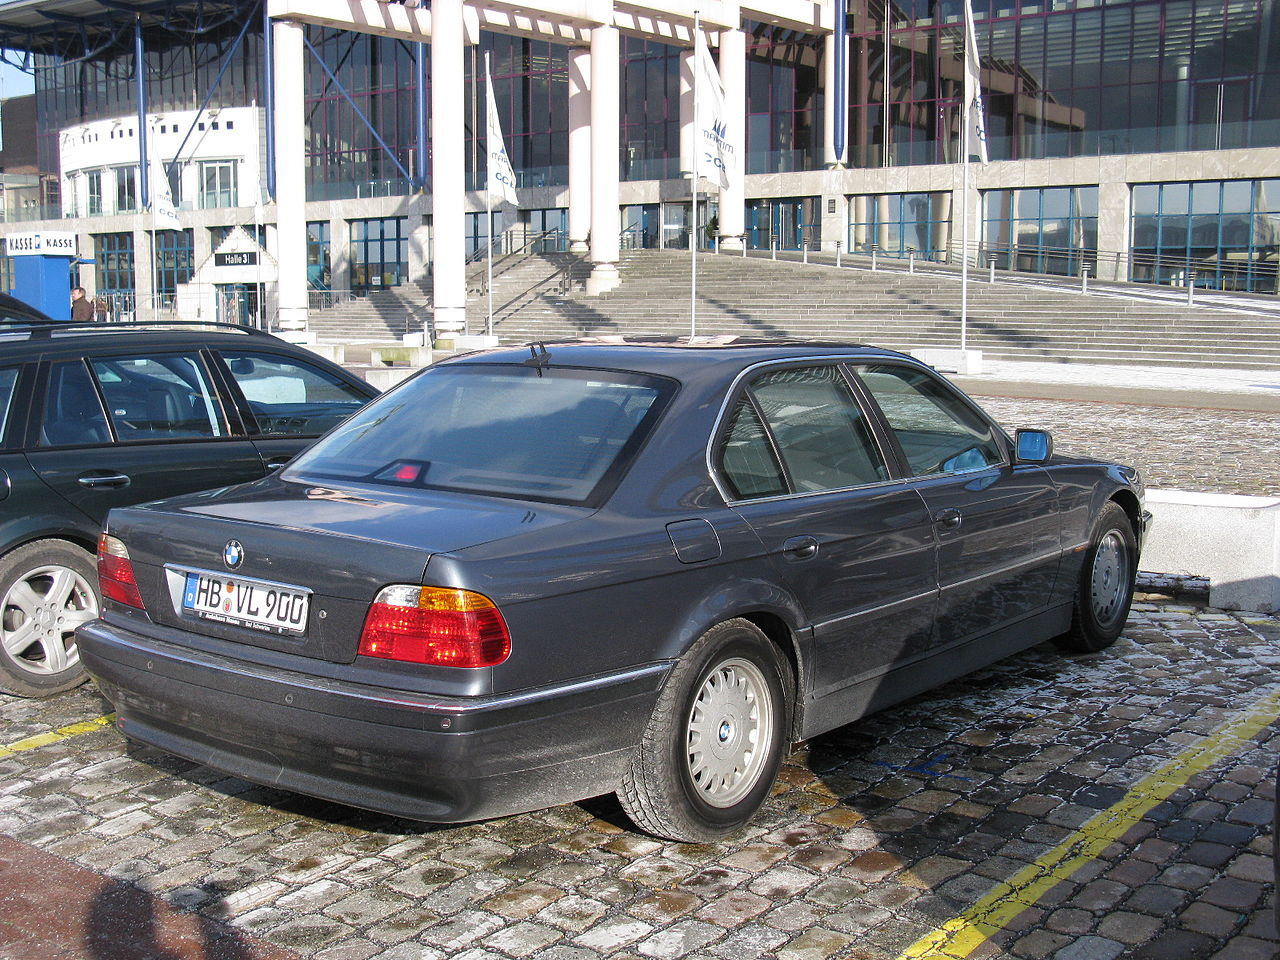plate: (180, 569, 312, 638)
